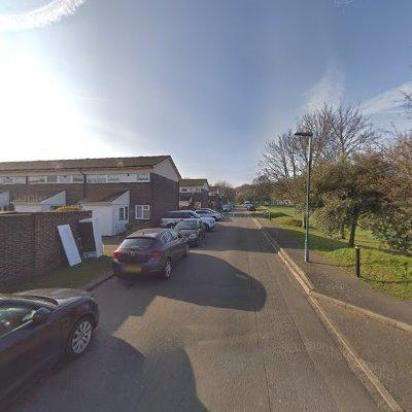stationary-car-onstreet: (0, 286, 100, 410), (110, 226, 190, 282), (160, 209, 216, 230), (172, 218, 208, 248), (192, 208, 222, 222), (222, 204, 232, 212), (246, 203, 256, 211)
